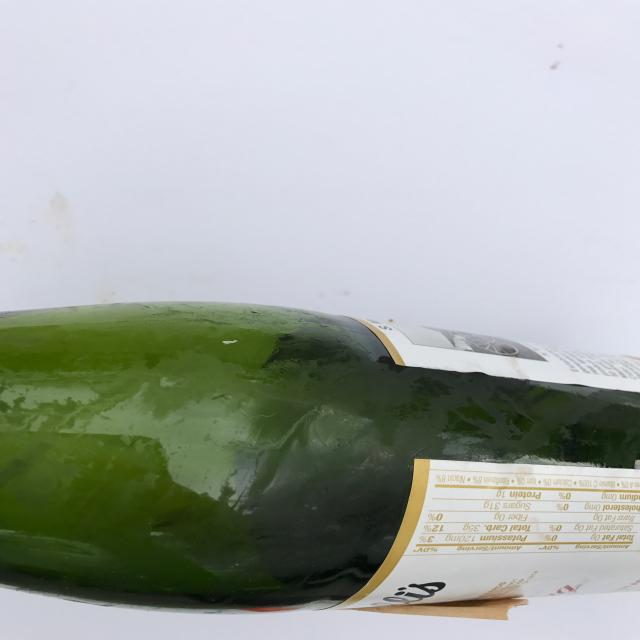glass: (0, 300, 640, 615)
